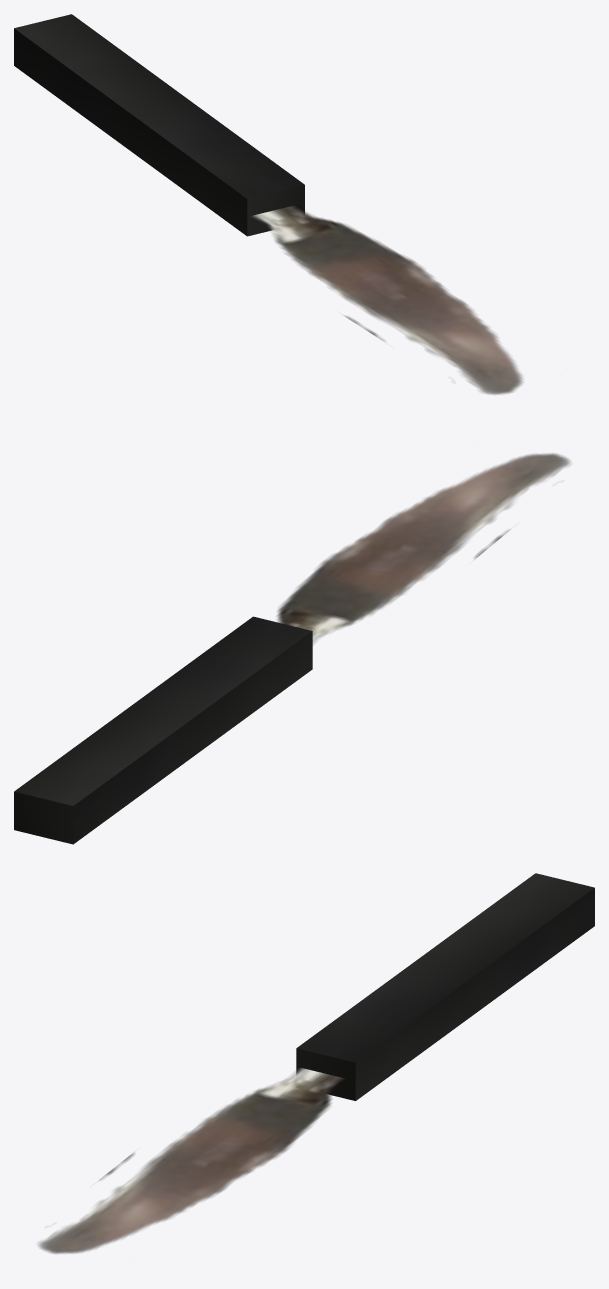
Rendered from Knife-col.glb.
The picture shows the model from 3 angles, top to bottom: view 1: azimuth 30°, elevation 25°; view 2: azimuth 150°, elevation 25°; view 3: azimuth 330°, elevation 25°; orthographic projection. The views are drawn at different scales.
Visible parts, largest first — view 1: Knife-col; view 2: Knife-col; view 3: Knife-col.
Boxes of the visible parts, x1=… form: Knife-col: x1=14, y1=14, x2=523, y2=394; Knife-col: x1=14, y1=453, x2=570, y2=844; Knife-col: x1=38, y1=873, x2=594, y2=1253.
Bounding box in the file's own units: 0.0972 × 0.0251 × 0.591.
Materials: 1 (1 with a texture image).
